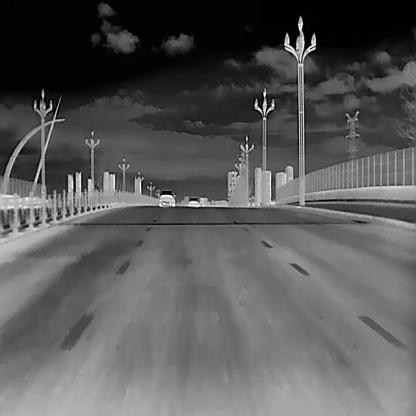car: (158, 190, 175, 207), (187, 196, 198, 206)
